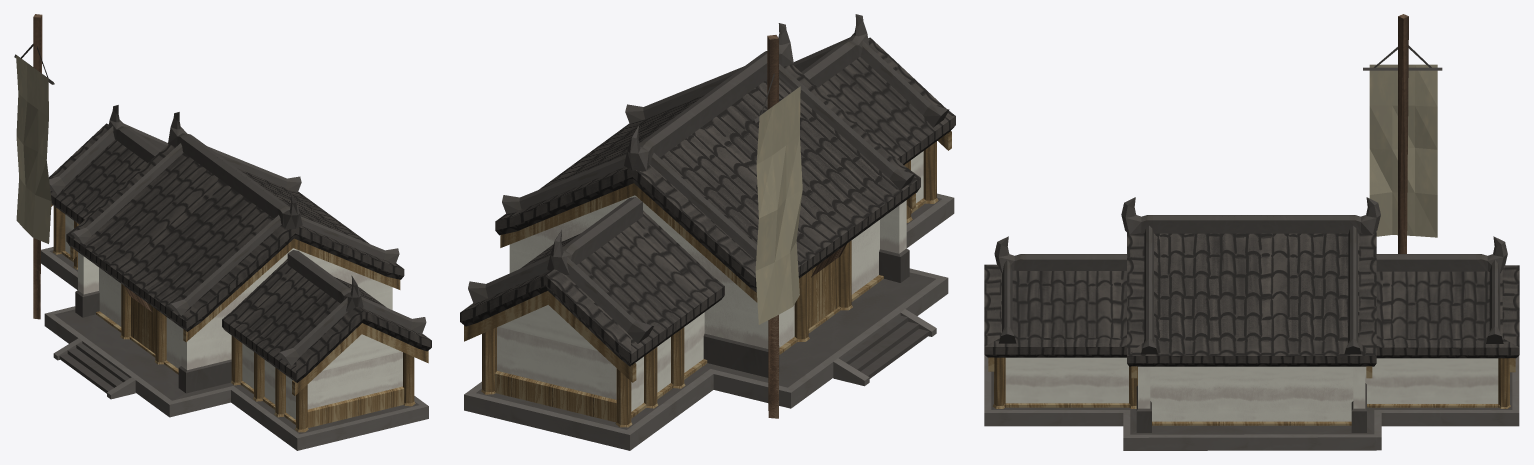
File: YiZhuang01.fbx
The picture shows the model from 3 angles, left to right: view 1: azimuth 30°, elevation 25°; view 2: azimuth 150°, elevation 25°; view 3: azimuth 270°, elevation 25°; orthographic projection. The views are drawn at different scales.
Parts seen in each view (by area): view 1: 4_YiZhuang01; view 2: 4_YiZhuang01; view 3: 4_YiZhuang01.
Boxes of the visible parts, <box> form: 4_YiZhuang01: <box>14,14,431,450</box>; 4_YiZhuang01: <box>460,14,955,450</box>; 4_YiZhuang01: <box>984,14,1519,450</box>.
Size of the model in its own units: 271 by 294 by 454.
